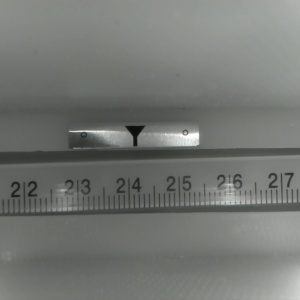2: (62, 179, 74, 194), (115, 177, 125, 193), (10, 181, 20, 197), (165, 176, 175, 191), (267, 173, 277, 188), (215, 174, 225, 189)
3: (80, 178, 90, 194)
4: (131, 177, 141, 193)
5: (182, 175, 191, 191)
6: (231, 173, 241, 188)
7: (283, 172, 294, 188)
finger: (123, 126, 145, 147)
